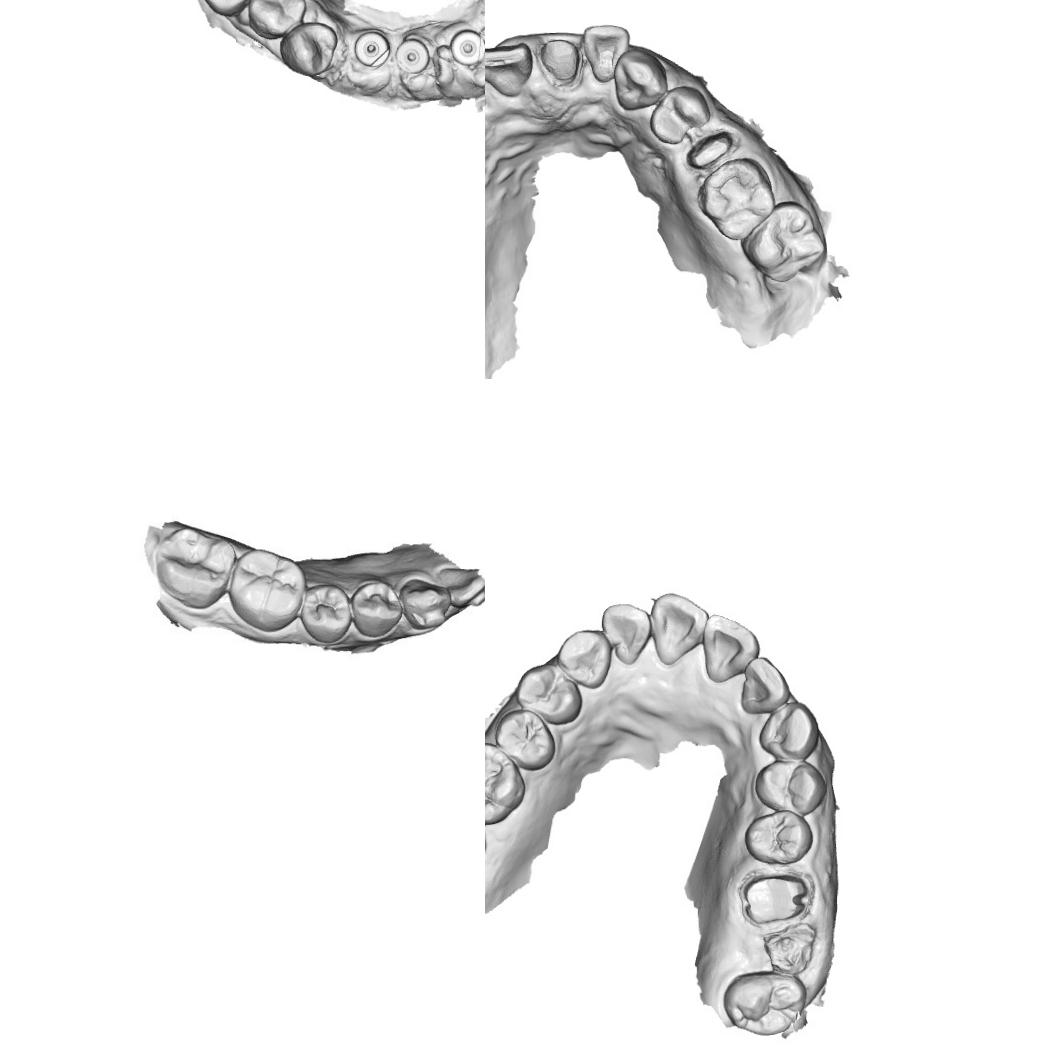canine: (757, 699, 819, 758), (612, 48, 668, 112), (559, 626, 610, 690), (398, 572, 450, 633)
crown: (740, 872, 809, 926), (683, 126, 737, 176), (538, 32, 582, 88)
implant: (351, 31, 388, 67), (451, 27, 482, 64), (394, 38, 424, 72)
incisor: (702, 613, 759, 679), (651, 592, 707, 656), (738, 653, 793, 717), (600, 602, 652, 668), (581, 22, 630, 84), (485, 40, 534, 98), (442, 564, 485, 606)
molar: (739, 200, 826, 284), (696, 157, 776, 242), (156, 526, 234, 610), (232, 550, 306, 632), (722, 971, 806, 1036), (485, 748, 516, 820), (185, 0, 265, 18)
premolar: (492, 706, 555, 770), (753, 759, 826, 814), (648, 84, 711, 145), (744, 808, 811, 865), (519, 665, 582, 724), (278, 20, 338, 78), (300, 581, 352, 646), (354, 582, 400, 639), (243, 0, 306, 40)
